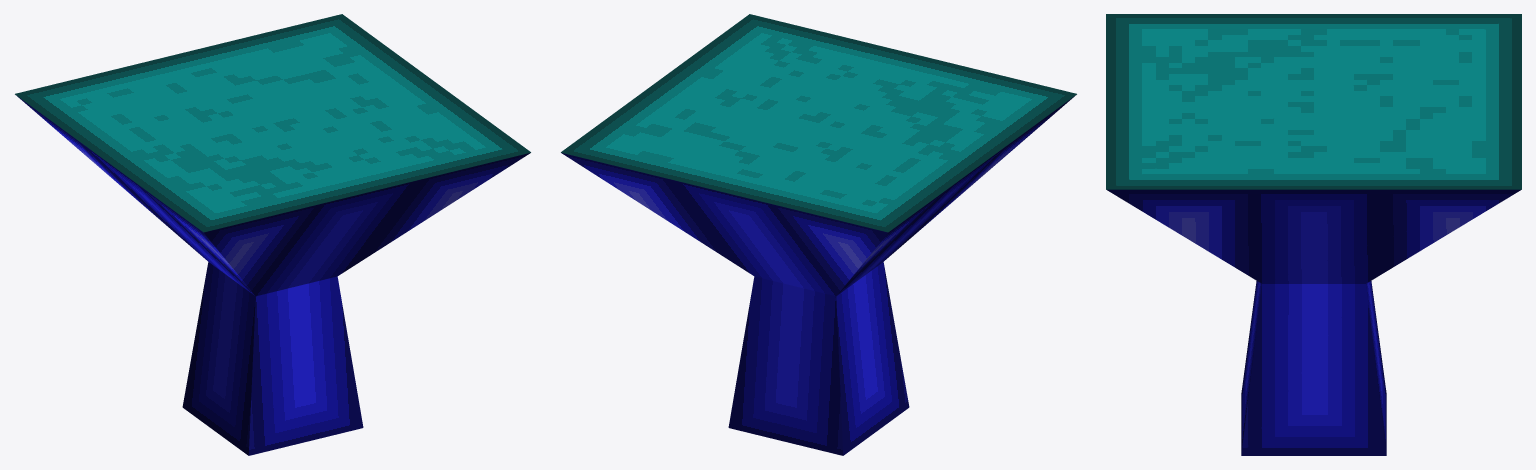
3 views of the same model, side by side, from view 1: azimuth 30°, elevation 25°; view 2: azimuth 150°, elevation 25°; view 3: azimuth 270°, elevation 25° (orthographic). The views are drawn at different scales.
Parts seen in each view (by area): view 1: ss3d_15_end_table; view 2: ss3d_15_end_table; view 3: ss3d_15_end_table.
Boxes of the visible parts, box(x1,y1,x2,y2) form: ss3d_15_end_table: box(15, 14, 530, 455); ss3d_15_end_table: box(561, 14, 1076, 455); ss3d_15_end_table: box(1106, 14, 1521, 455).
Bounding box in the file's own units: 0.4219 × 0.3621 × 0.4219.
Materials: 1 (1 with a texture image).
